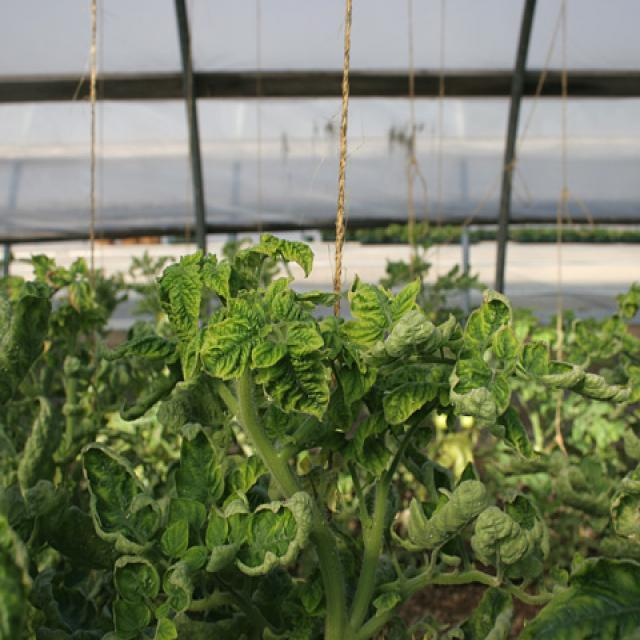Tomato yellow virus leaf: (338, 266, 426, 382), (78, 438, 164, 546), (201, 296, 303, 378), (222, 491, 316, 574), (159, 248, 201, 385), (375, 369, 453, 424)
